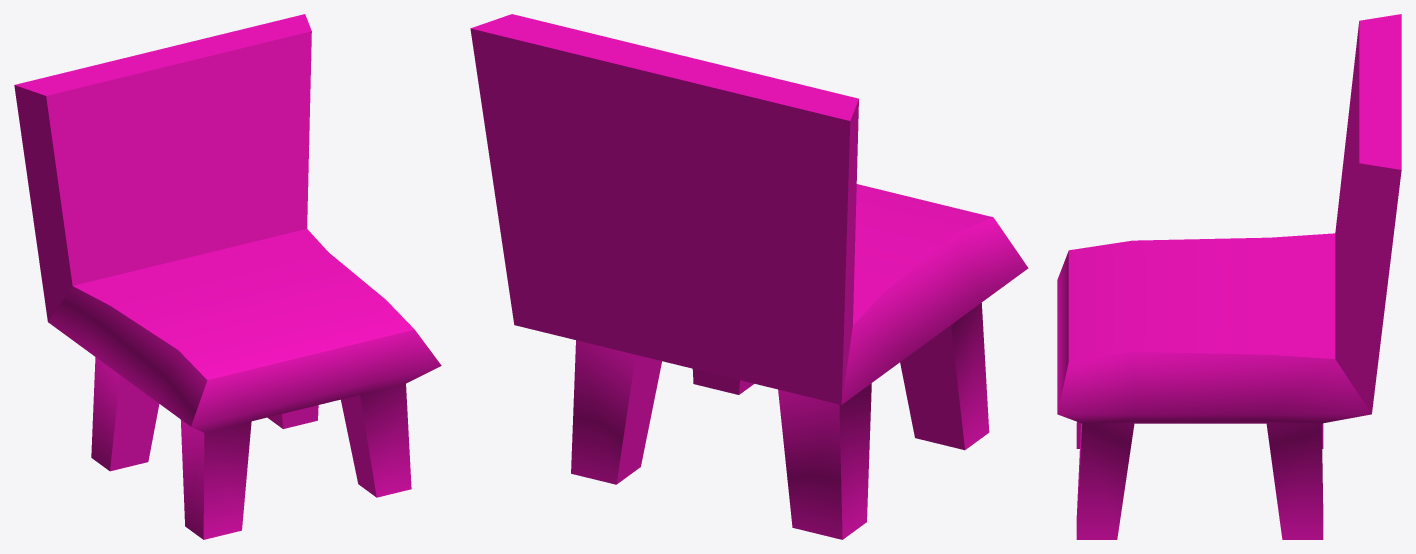
The model's file is study_chair_2_meshCollider.fbx.
3 views of the same model, side by side, from view 1: azimuth 30°, elevation 25°; view 2: azimuth 150°, elevation 25°; view 3: azimuth 270°, elevation 25° (orthographic). The views are drawn at different scales.
Parts seen in each view (by area): view 1: study_chair_2_meshCollider; view 2: study_chair_2_meshCollider; view 3: study_chair_2_meshCollider.
Part boxes in pixels (<box>): study_chair_2_meshCollider: <box>14,14,441,539</box>; study_chair_2_meshCollider: <box>470,14,1028,539</box>; study_chair_2_meshCollider: <box>1057,14,1401,539</box>.
Bounding box in the file's own units: 51.51 × 60.39 × 48.04.
